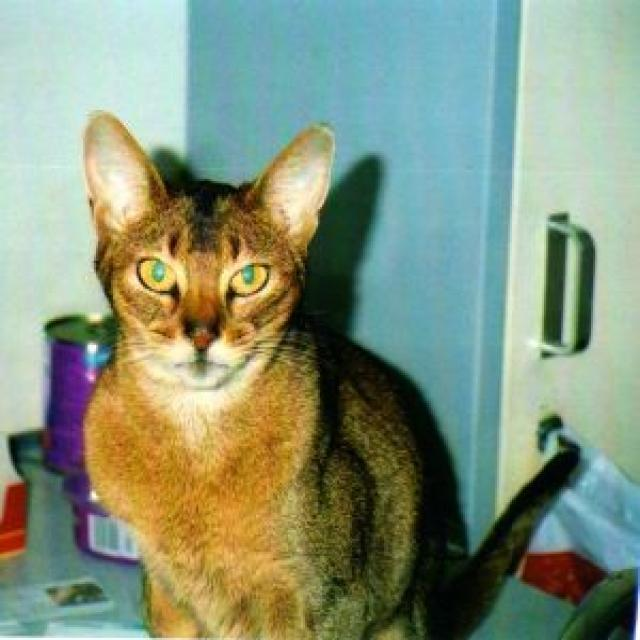Abyssinian: (81, 108, 331, 384)
